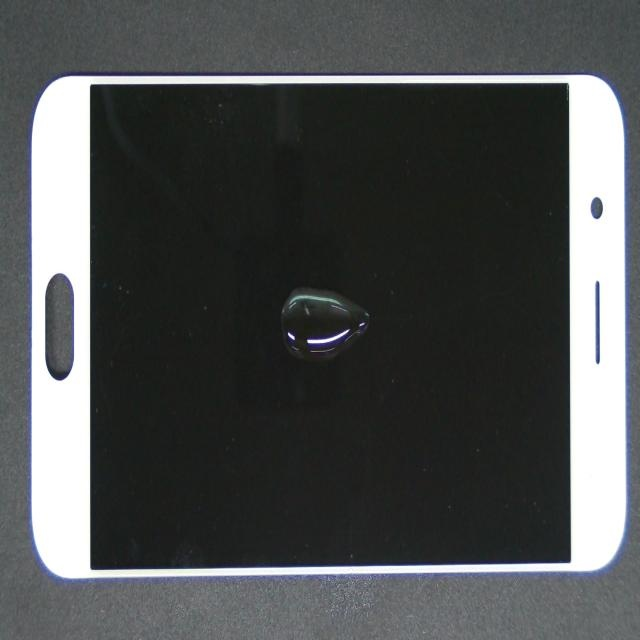oil: (155, 192, 525, 512)
